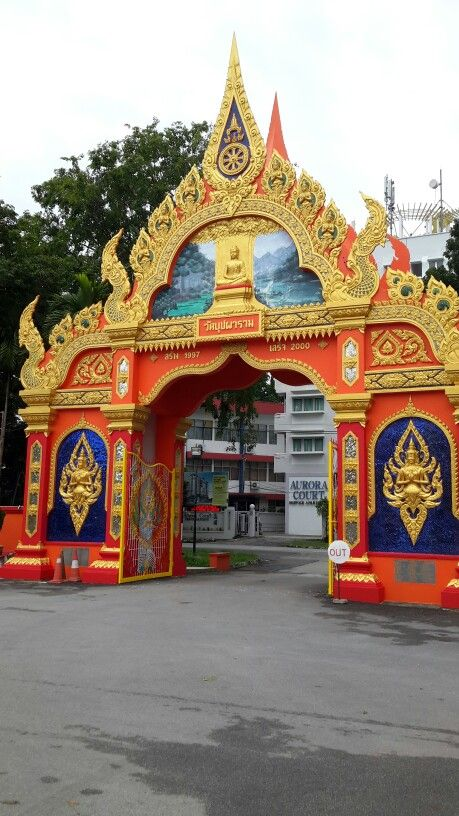Buddhist Temple: (36, 80, 450, 555)
